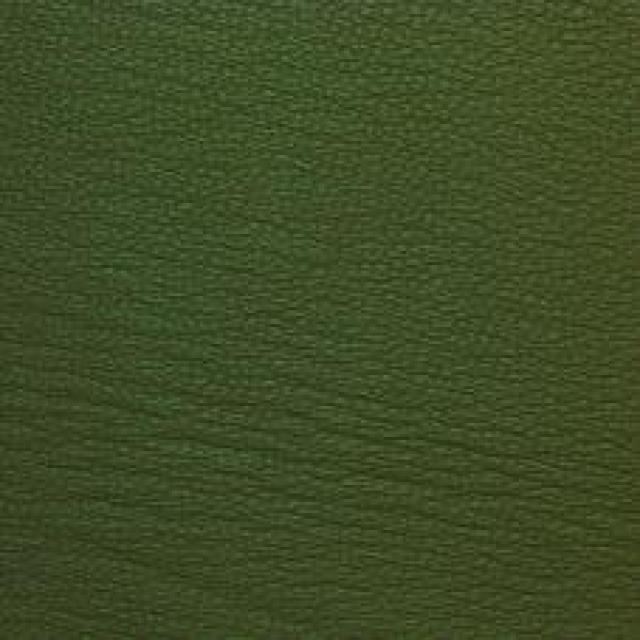Growth Marks: (115, 378, 466, 522)
